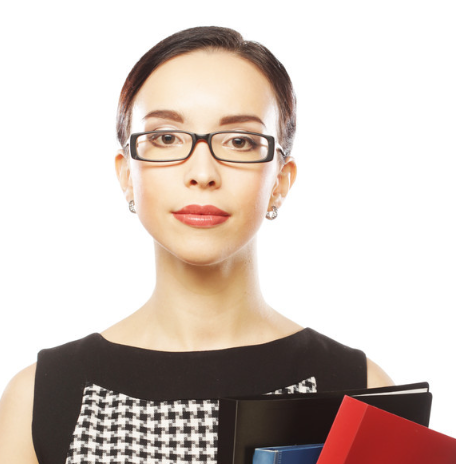glass: (118, 126, 294, 172)
mouth: (168, 198, 238, 234)
